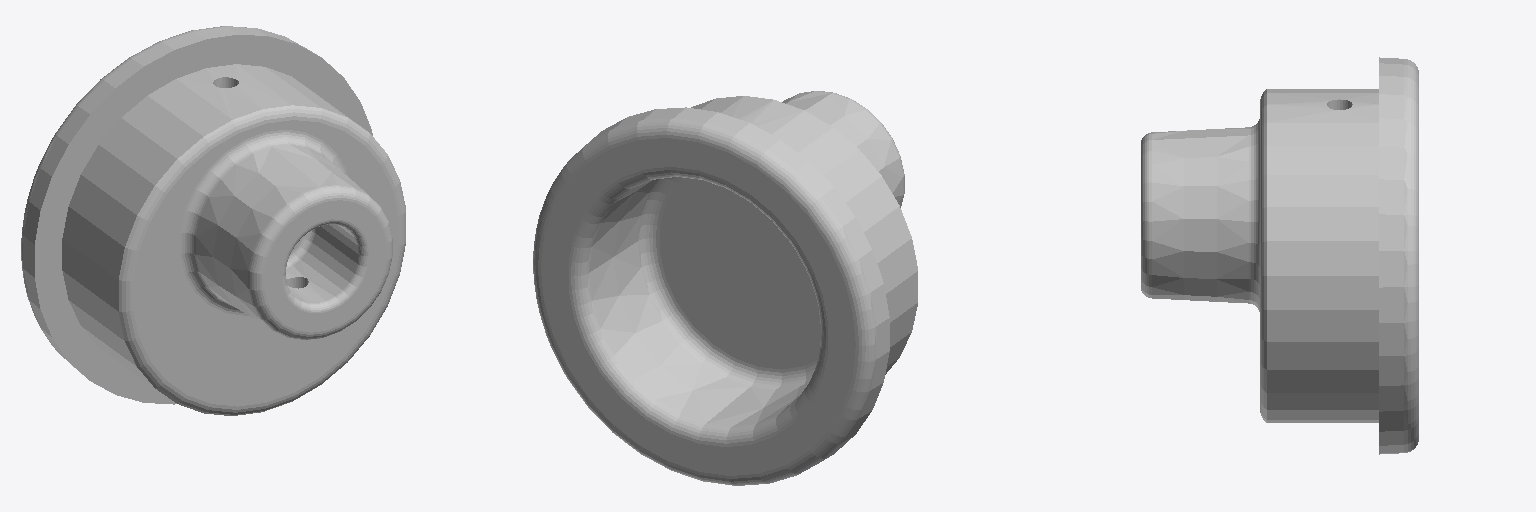
The picture shows the model from 3 angles: view 1: azimuth 30°, elevation 25°; view 2: azimuth 150°, elevation 25°; view 3: azimuth 270°, elevation 25°; orthographic projection.
Visible parts, largest first — view 1: Part__Feature001; view 2: Part__Feature001; view 3: Part__Feature001.
Part boxes in pixels (x1,y1,x2,y2): Part__Feature001: (21,26,405,415); Part__Feature001: (533,91,917,485); Part__Feature001: (1141,57,1418,454).
Size of the model in its own units: 3.01 by 3.03 by 2.12.